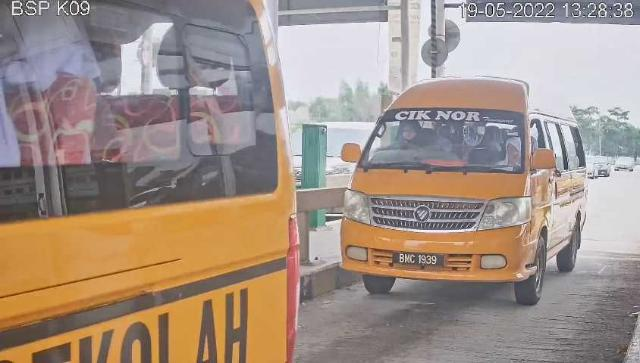License_Plate: (392, 251, 448, 272)
van: (342, 77, 589, 307)
